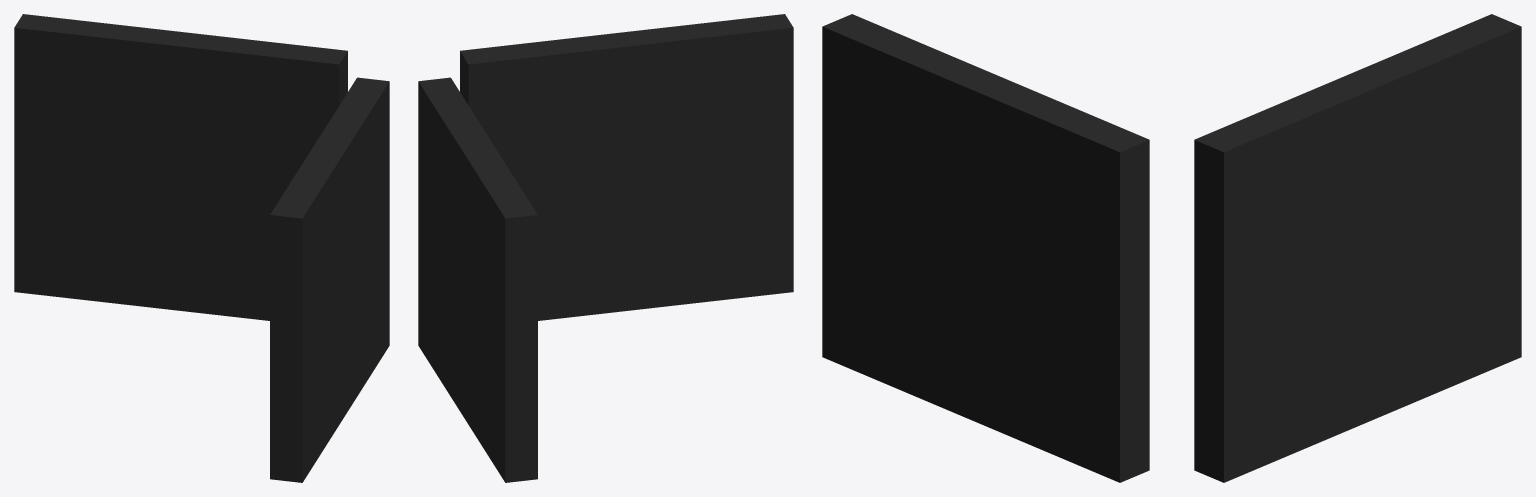
Rendered from Static_0_5friction.fbx.
The picture shows the model from 3 angles, left to right: view 1: azimuth 30°, elevation 25°; view 2: azimuth 150°, elevation 25°; view 3: azimuth 270°, elevation 25°; orthographic projection. The views are drawn at different scales.
Parts seen in each view (by area): view 1: S1StaticBox2, S1StaticBox1; view 2: S1StaticBox1, S1StaticBox2; view 3: S1StaticBox1, S1StaticBox2.
Boxes of the visible parts, x1,y1,x2,y2 form: S1StaticBox2: [14, 14, 347, 320]; S1StaticBox1: [270, 77, 389, 482]; S1StaticBox1: [460, 14, 793, 320]; S1StaticBox2: [418, 77, 537, 482]; S1StaticBox1: [822, 14, 1149, 482]; S1StaticBox2: [1194, 14, 1521, 482].
Size of what is drawn, in the model's own units: 23.34 by 26 by 49.83.
